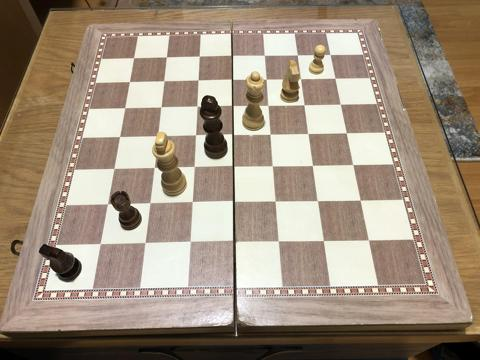xcorner: (324, 49, 336, 61), (292, 49, 304, 61), (259, 50, 271, 62), (226, 50, 238, 62), (194, 51, 206, 63), (161, 51, 173, 63), (129, 52, 141, 64), (329, 72, 341, 84), (295, 73, 307, 85), (261, 73, 273, 85), (227, 74, 239, 86), (159, 75, 171, 87), (125, 76, 137, 88), (335, 98, 347, 110), (299, 99, 311, 111), (227, 100, 239, 112), (191, 101, 203, 113), (156, 101, 168, 113), (120, 102, 132, 114), (341, 127, 353, 139), (303, 128, 315, 140), (265, 128, 277, 140), (190, 129, 202, 141), (152, 130, 164, 142), (115, 131, 127, 143), (268, 160, 280, 172), (228, 161, 240, 173), (188, 161, 200, 173), (149, 162, 161, 174), (355, 195, 367, 207), (228, 197, 240, 209), (186, 197, 198, 209), (144, 198, 156, 210), (103, 198, 115, 210), (363, 235, 375, 247), (318, 236, 330, 248), (274, 236, 286, 248), (229, 237, 241, 249), (184, 237, 196, 249), (140, 238, 152, 250), (95, 238, 107, 250), (193, 75, 205, 86), (263, 100, 275, 111), (228, 129, 239, 141), (348, 159, 359, 171), (308, 160, 319, 172), (109, 163, 121, 174), (313, 196, 325, 207), (271, 196, 282, 208)
